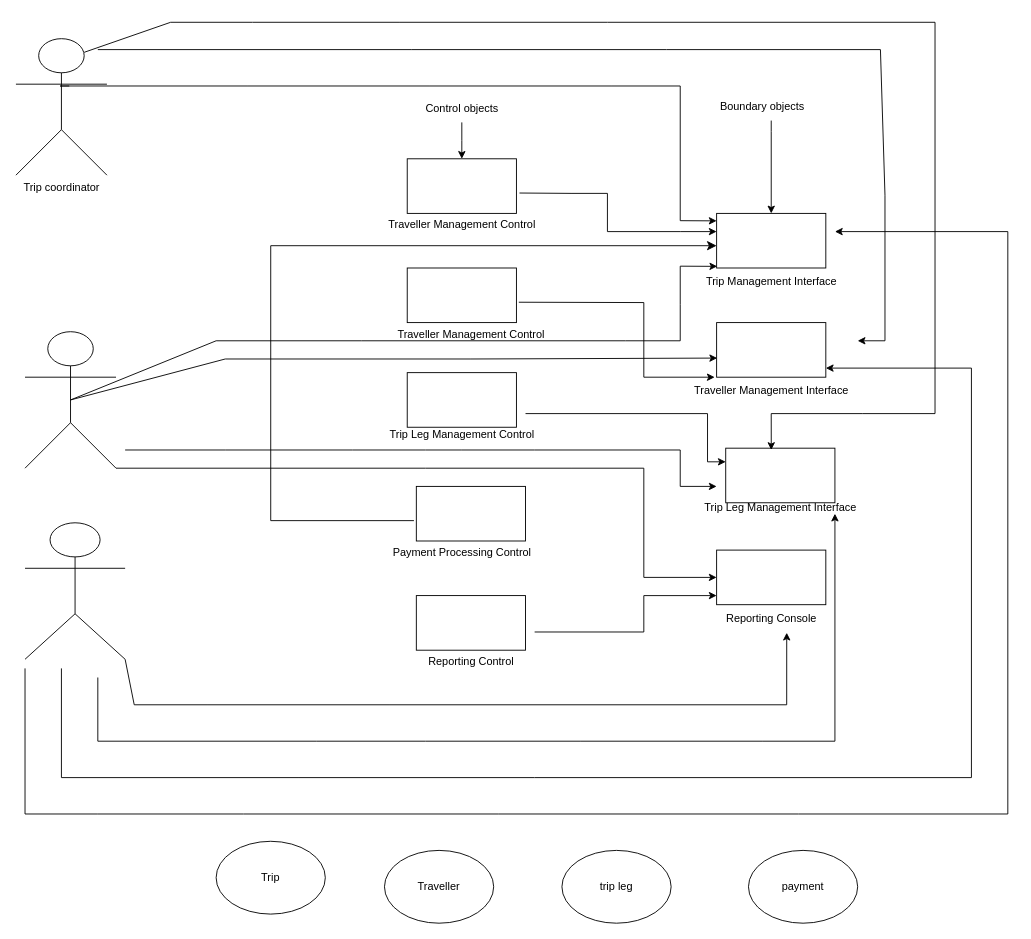
This 1031x939 diagram has some shape labels left out. Here are the shapes that lost their labels. From the top down, the centre of each, then its label:
pixel 70 399: Trip manager
pixel 74 590: Administrator
